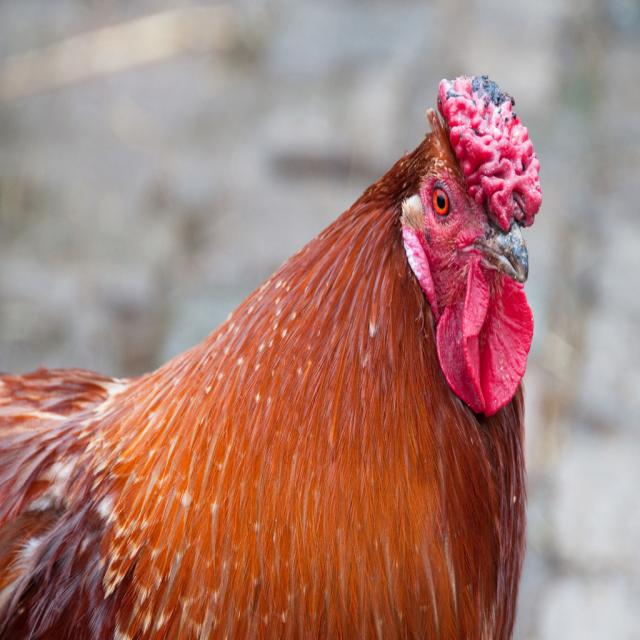Chicken: (0, 75, 542, 640)
